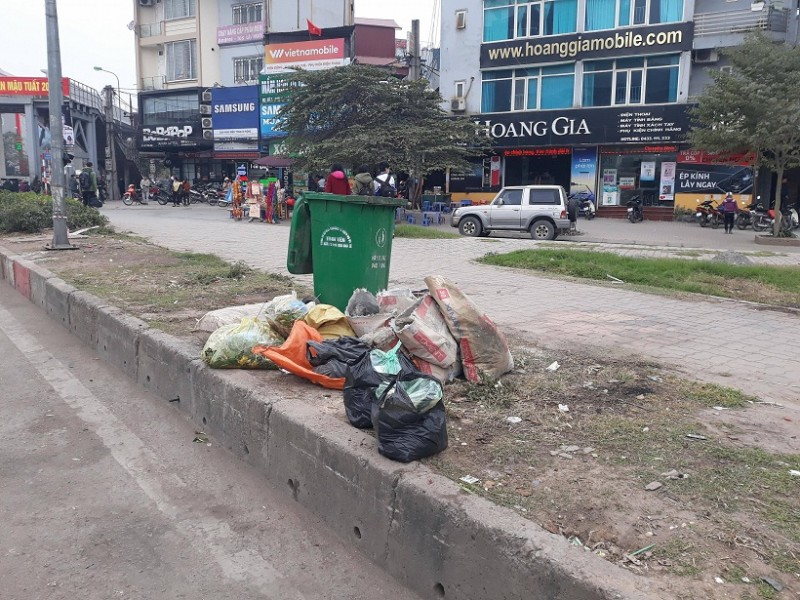plastic bag: (197, 276, 517, 463), (342, 339, 450, 461)
